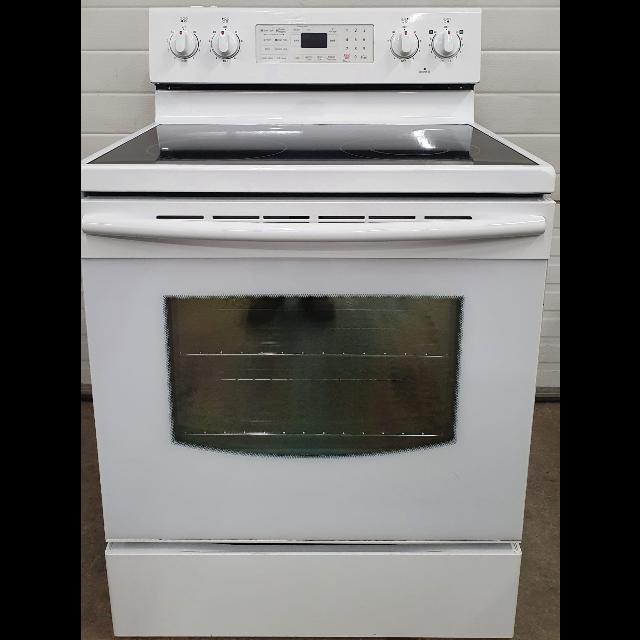Oven: (80, 0, 560, 548)
